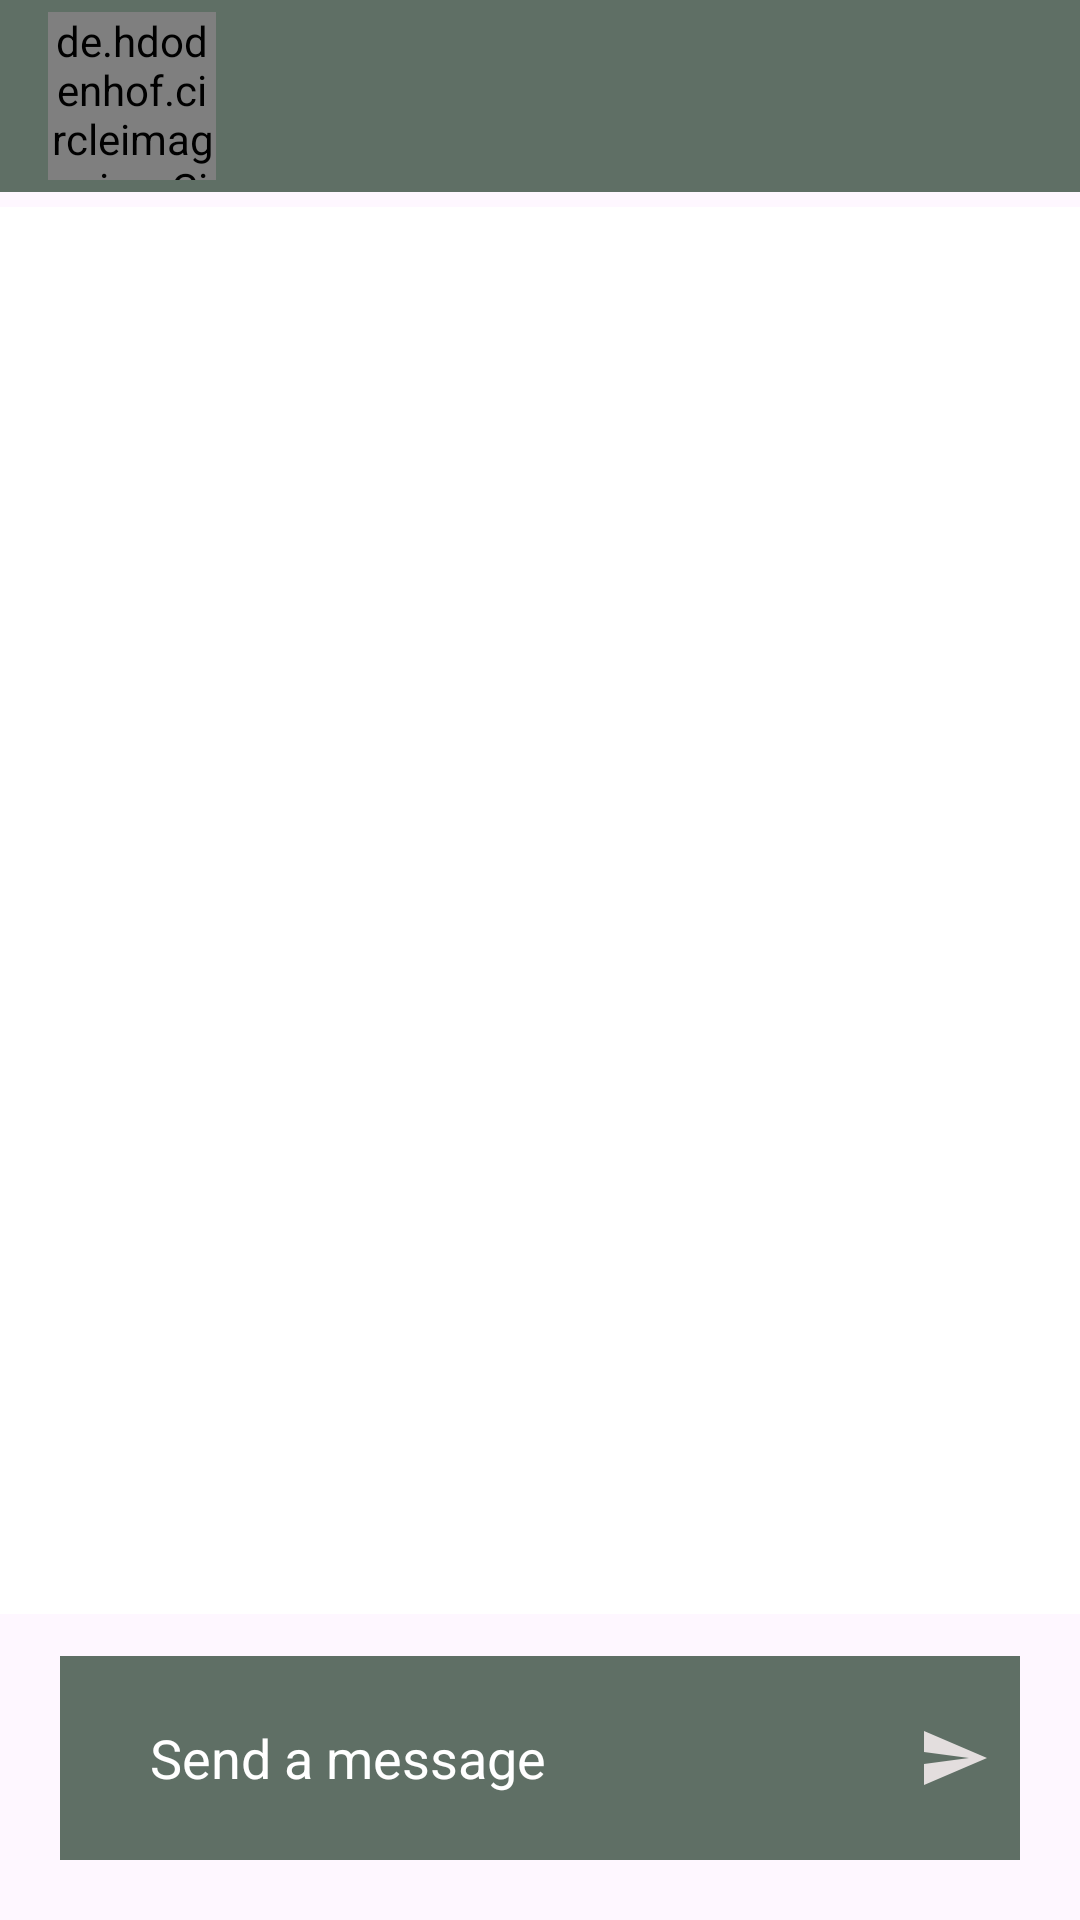

Icons on this 1080 x 1920 Android screen, each with its box as (x1, y1, x2, y2):
sent: (924, 1731, 987, 1785)
